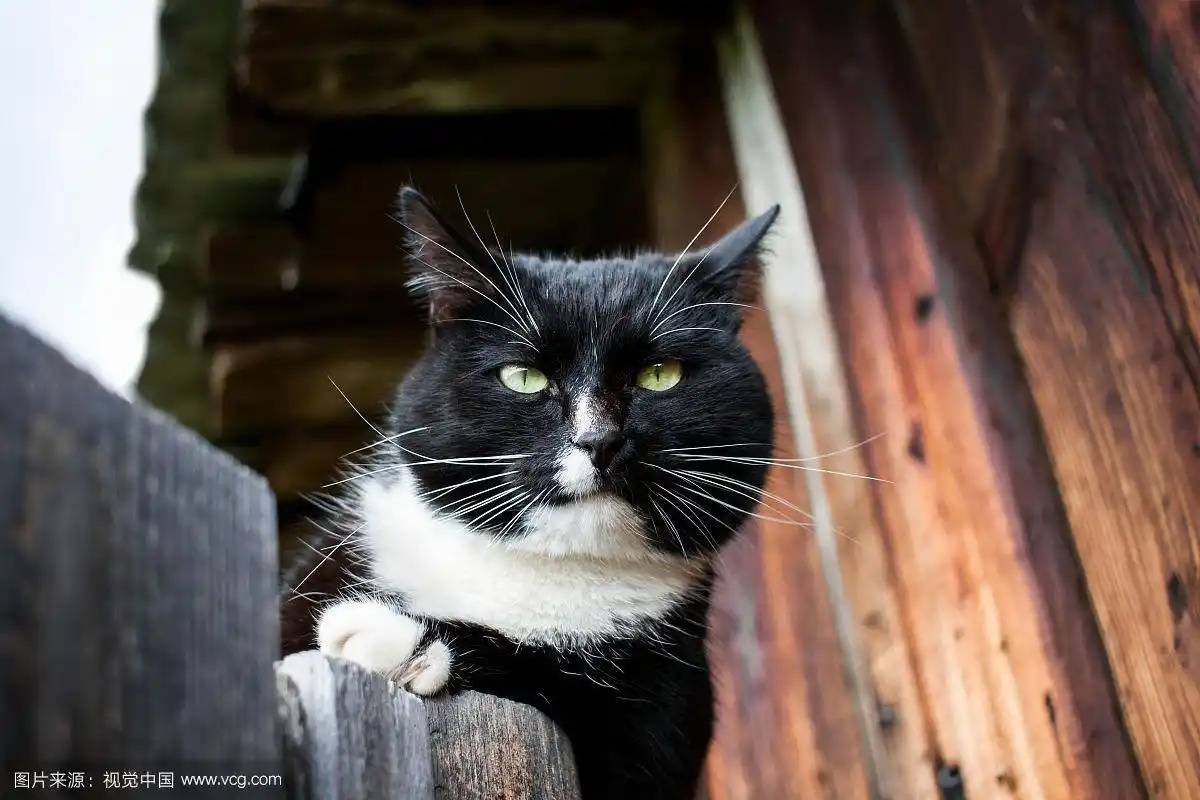奶牛猫: (288, 187, 776, 796)
